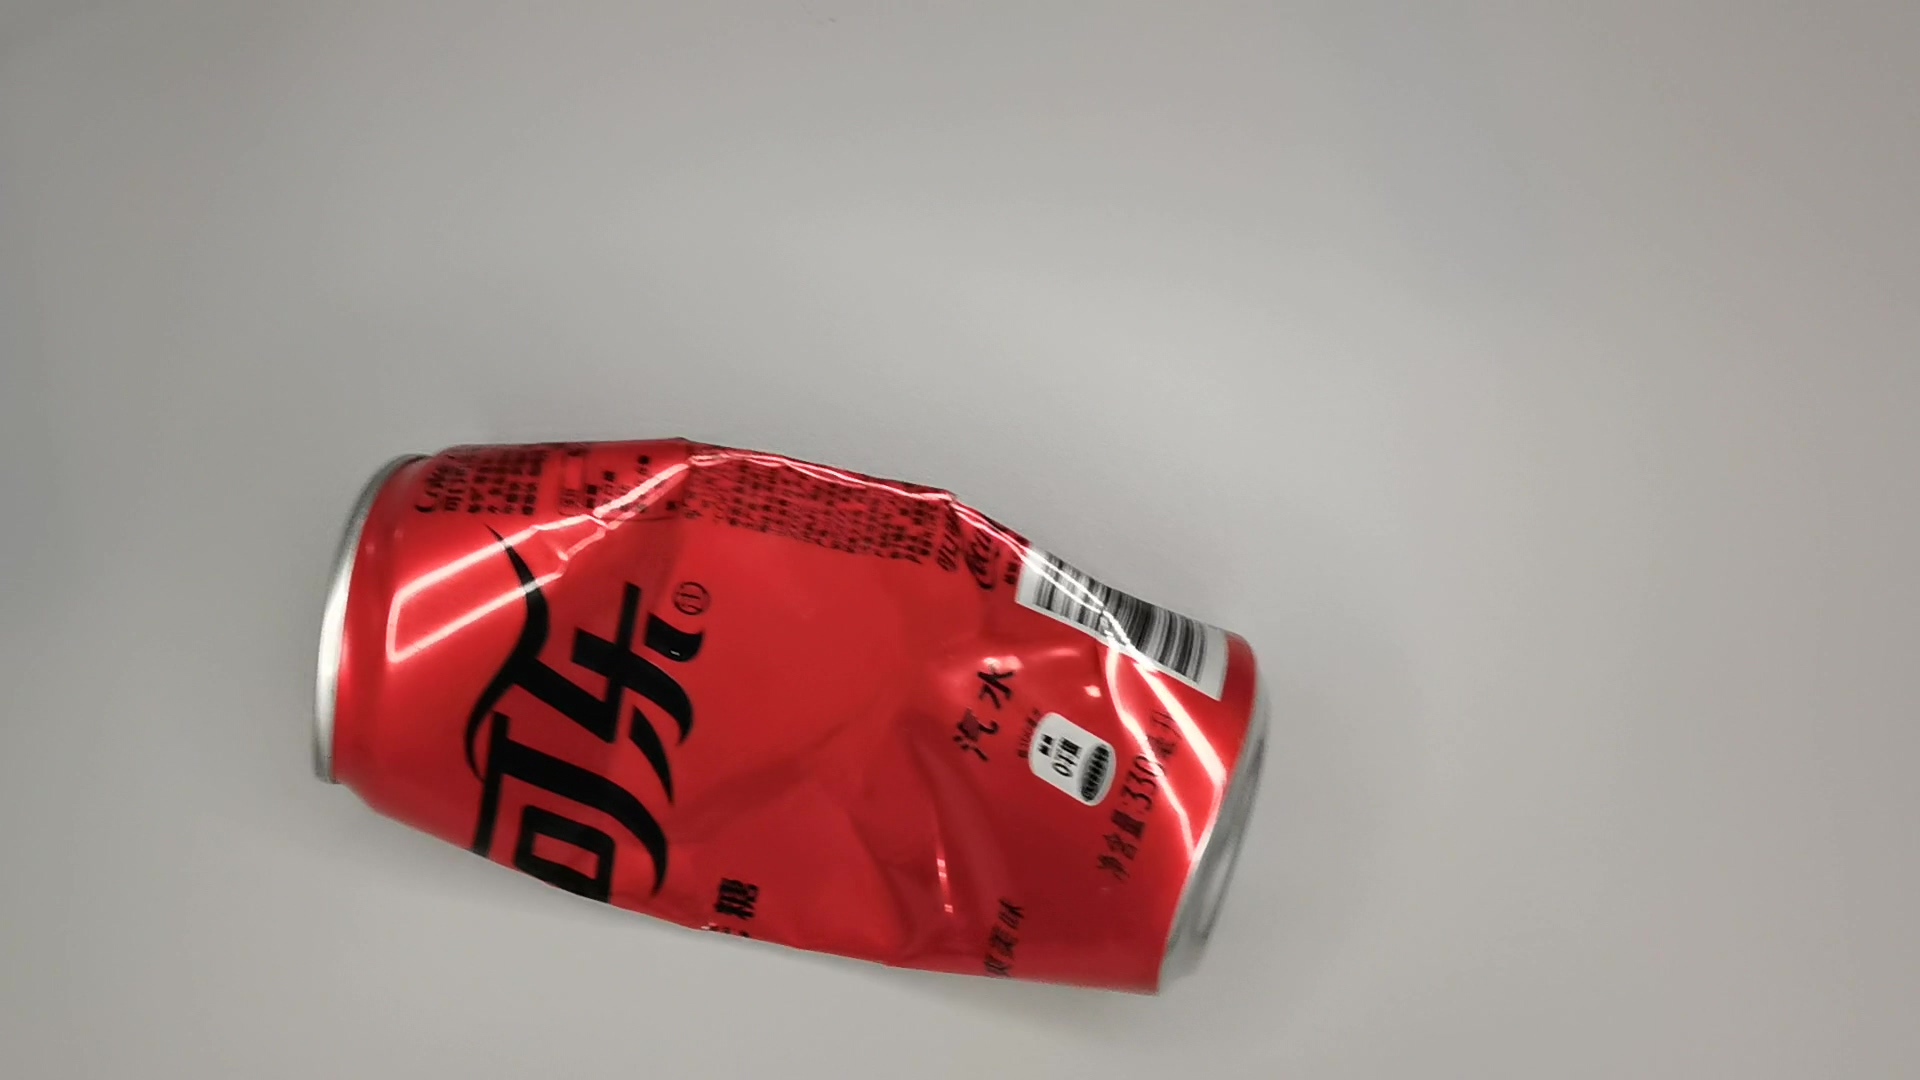can: (303, 427, 1282, 996)
